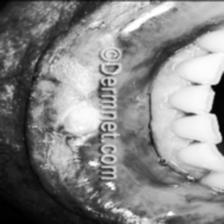Potentially Malignant Skin Tumors: (88, 0, 158, 30), (45, 56, 88, 84), (62, 109, 96, 137)
